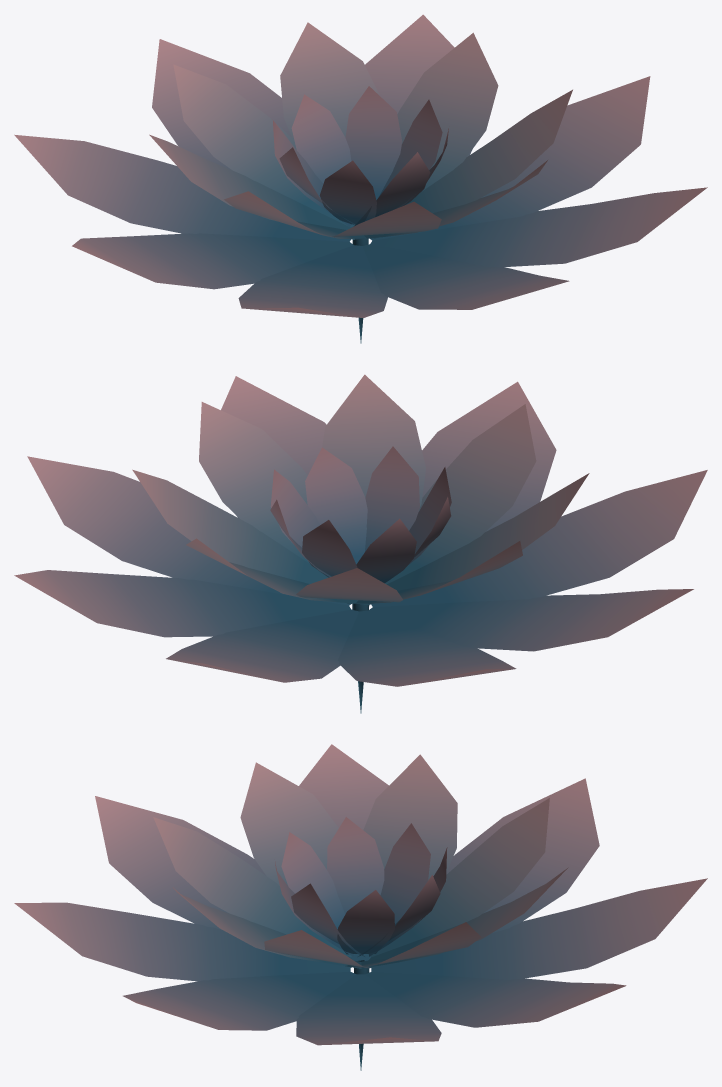
Rendered from plants-cacti-succulents-pink-rosette_v3.glb.
3 renders of one model, top to bottom at view 1: azimuth 30°, elevation 25°; view 2: azimuth 150°, elevation 25°; view 3: azimuth 270°, elevation 25°, orthographic. The views are drawn at different scales.
Visible parts, largest first — view 1: Pink Rosette_v3; view 2: Pink Rosette_v3; view 3: Pink Rosette_v3.
Part boxes in pixels (x1=…): Pink Rosette_v3: x1=14, y1=14, x2=707, y2=343; Pink Rosette_v3: x1=14, y1=374, x2=707, y2=713; Pink Rosette_v3: x1=14, y1=744, x2=707, y2=1070.
Size of the model in its own units: 0.25 by 0.0917 by 0.25.
